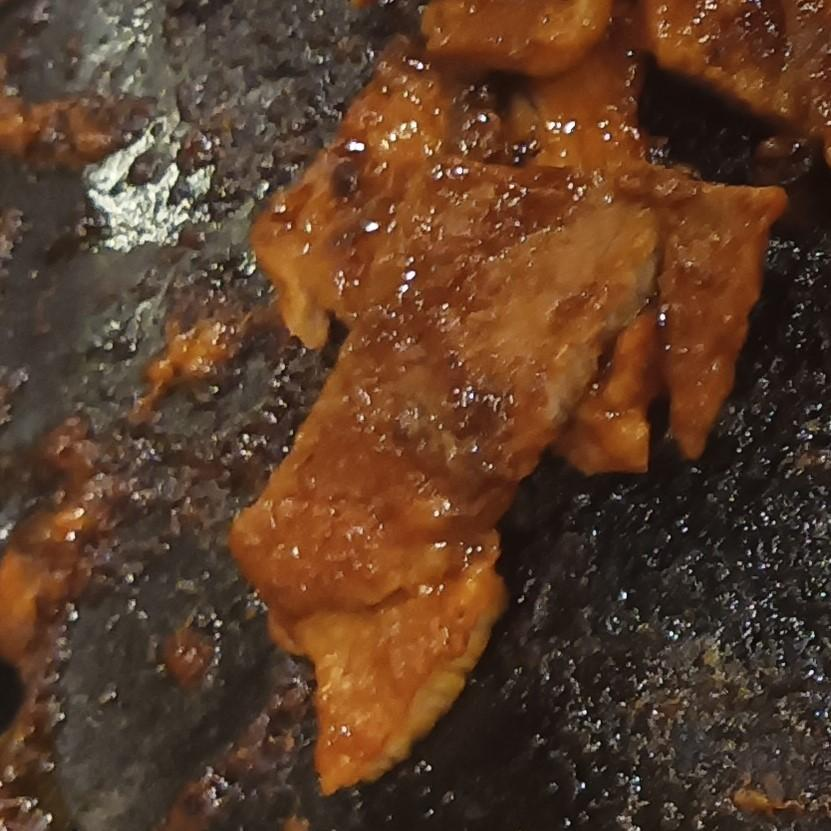Overcooked: (229, 0, 830, 800)
